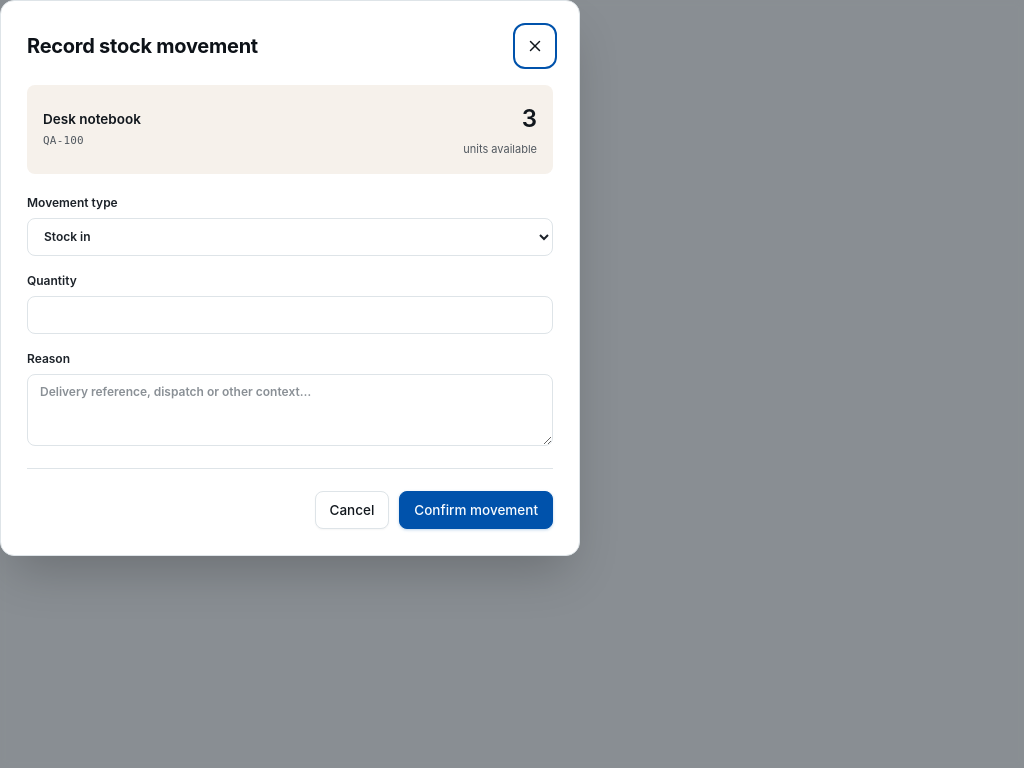
Test case: stock out blocks quantities above available stock
Select "Stock out" in the dropdown labelled "Movement type" at (290, 236), box [27,218,553,256]
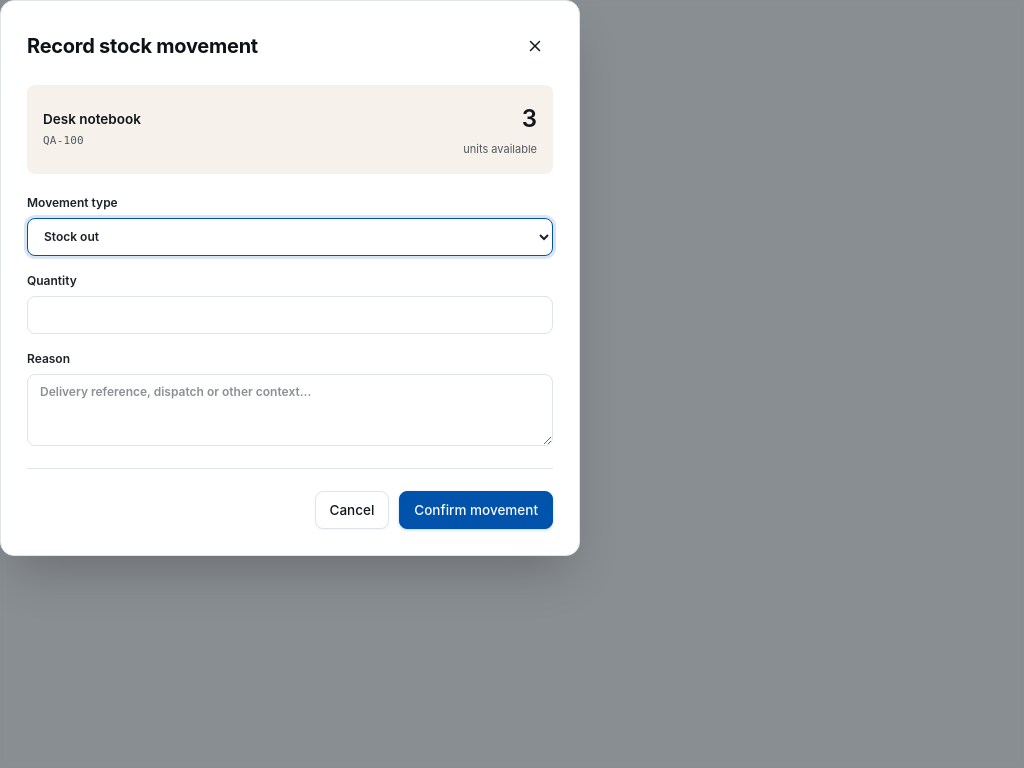
Type "9" into the field labelled "Quantity" at (290, 314), box [27,296,553,334]
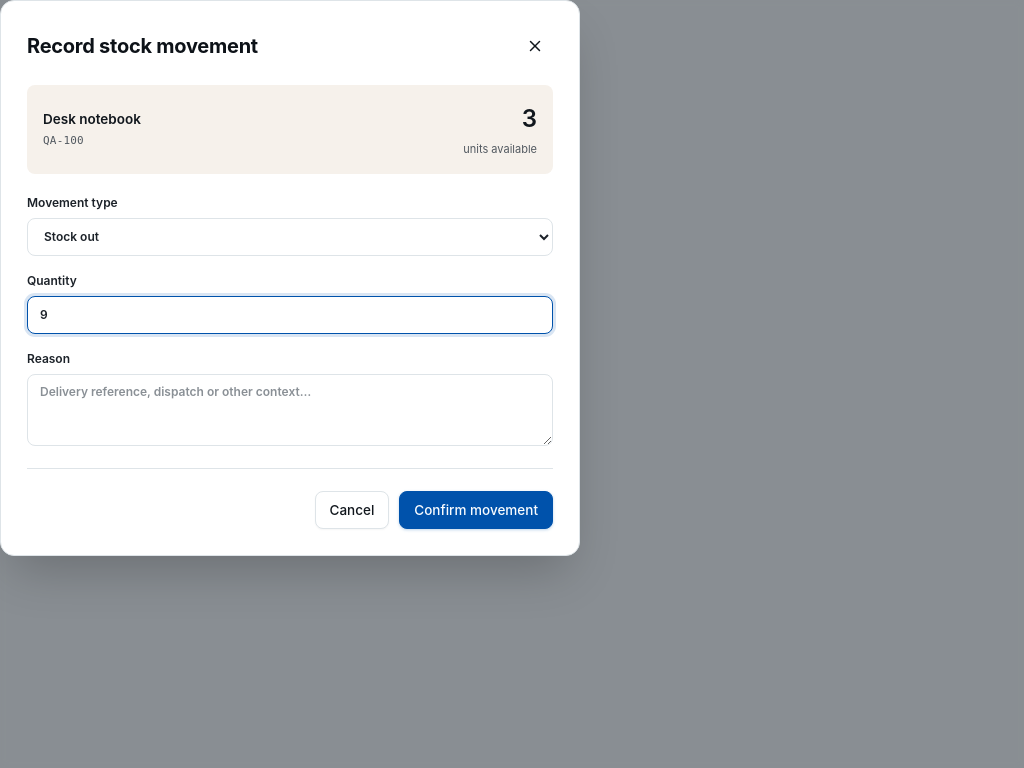
Type "Customer order" into the text box labelled "Reason" at (290, 410), box [27,374,553,446]
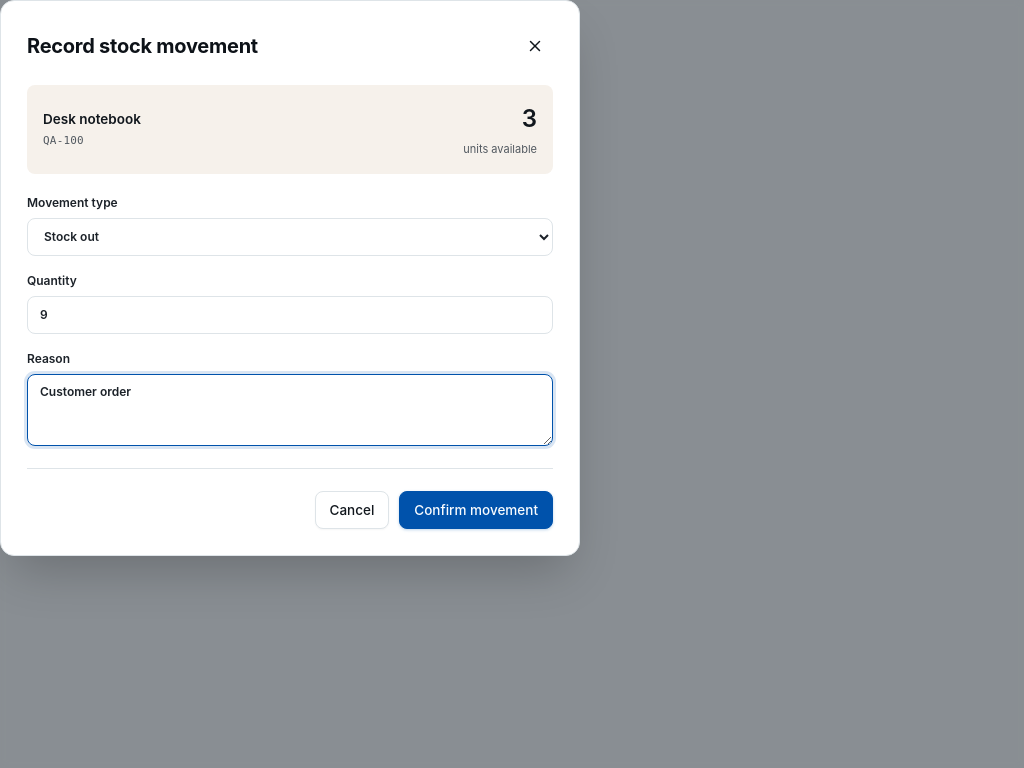
Click the button "Confirm movement" at (476, 510), box [399,490,553,529]
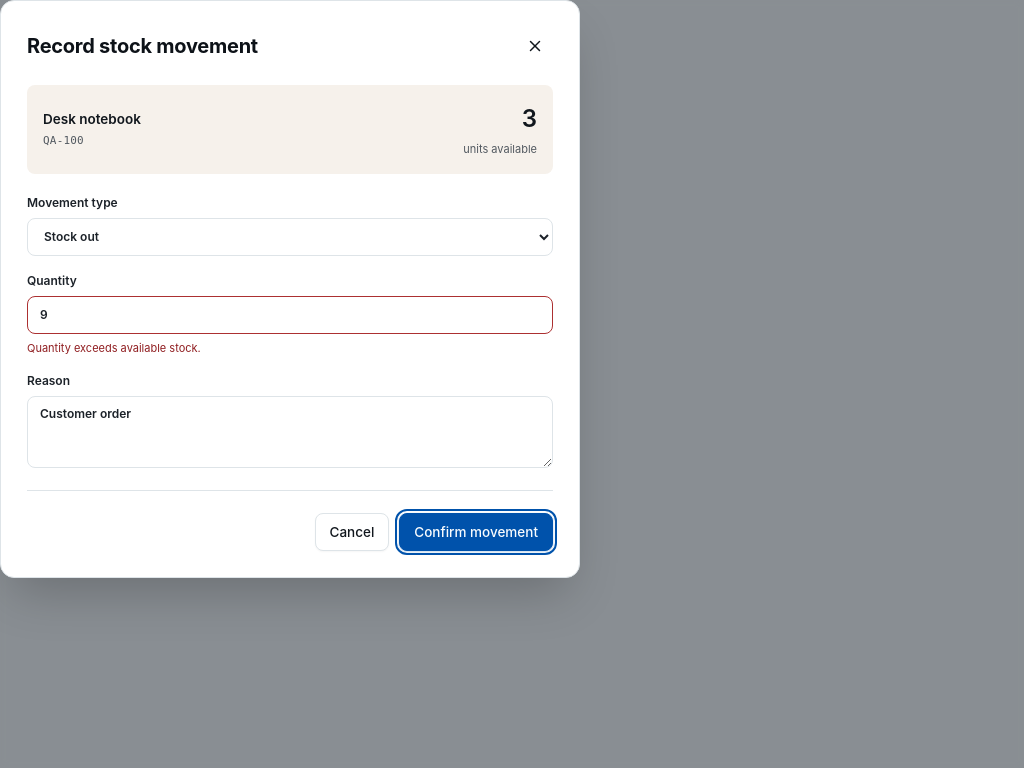
Now the text "Quantity exceeds available stock." is shown, box [27,340,201,354]
